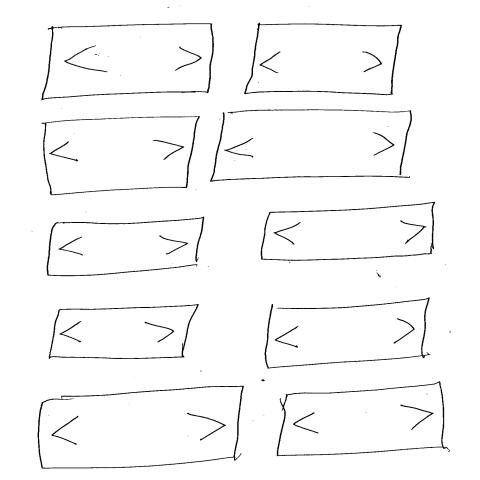Carousel: (37, 385, 245, 470), (209, 110, 413, 184), (39, 23, 216, 101), (276, 382, 446, 458), (43, 116, 202, 196), (264, 298, 432, 371), (243, 24, 403, 97), (260, 202, 436, 261), (46, 217, 206, 277), (47, 304, 201, 360)
